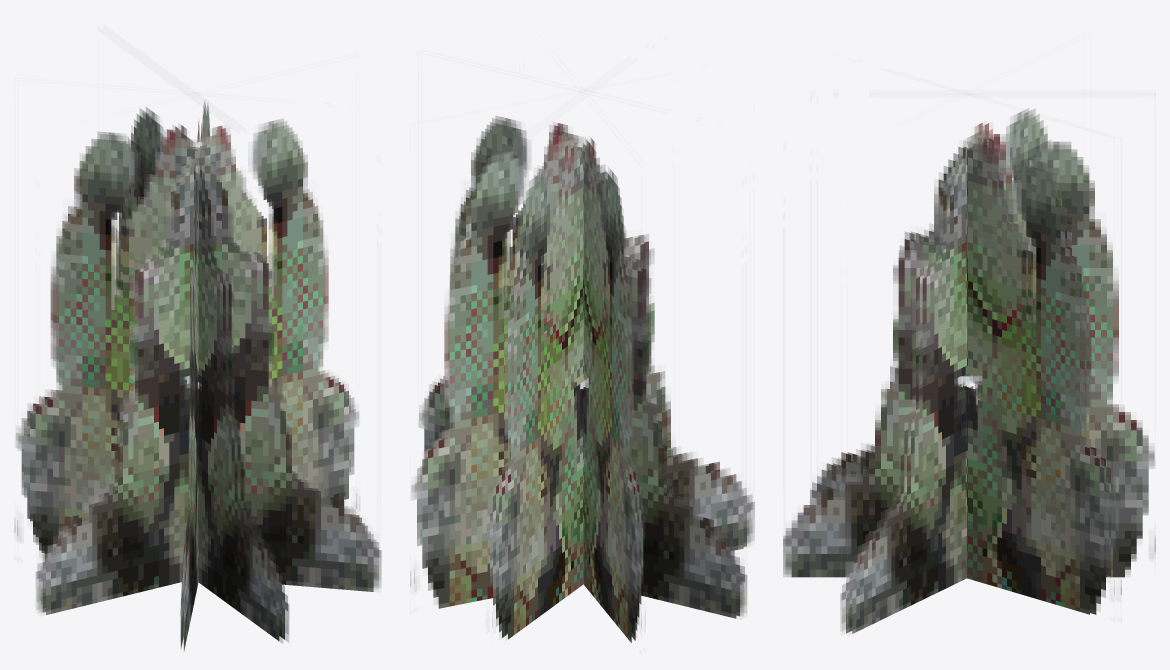
Rendered from Environment - Debris and Ruins - Rubble Mound - Debris - PMPrklyPrS.glb.
The picture shows the model from 3 angles, left to right: view 1: azimuth 30°, elevation 25°; view 2: azimuth 150°, elevation 25°; view 3: azimuth 270°, elevation 25°; orthographic projection.
Visible parts, largest first — view 1: PMPRKLYPRS; view 2: PMPRKLYPRS; view 3: PMPRKLYPRS.
Boxes of the visible parts, x1,y1,x2,y2 form: PMPRKLYPRS: (14, 94, 381, 651); PMPRKLYPRS: (410, 89, 754, 642); PMPRKLYPRS: (783, 93, 1155, 633).
Bounding box in the file's own units: 8.52 × 12.21 × 8.52.
Materials: 1 (1 with a texture image).
